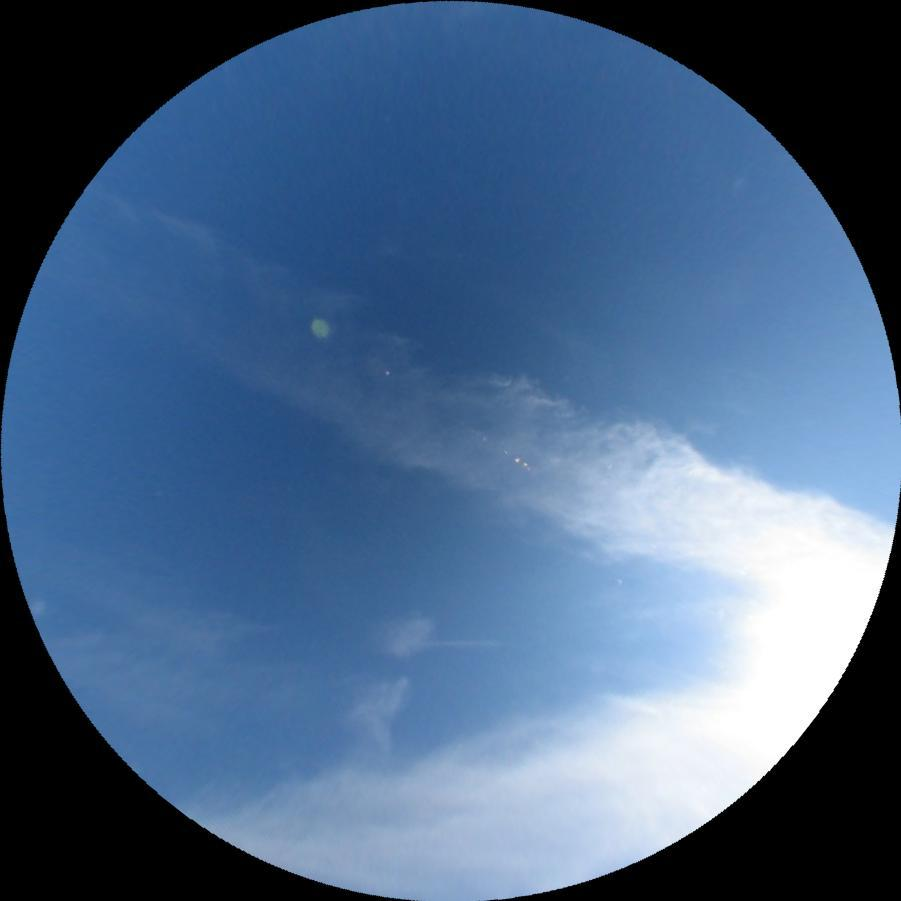contrail veryold: (31, 164, 896, 654), (340, 605, 435, 769)
unknow: (426, 638, 499, 647)
